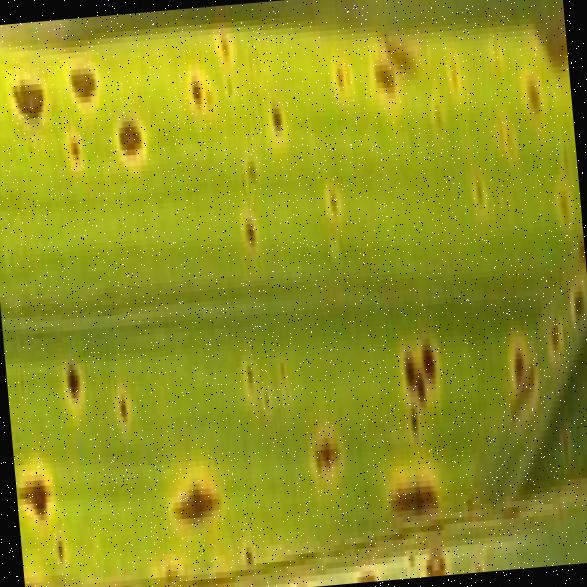Brown_Spot: (380, 298, 450, 443), (10, 422, 68, 572), (503, 296, 544, 478), (165, 452, 232, 554), (1, 21, 50, 137), (516, 44, 556, 176), (322, 22, 358, 154), (384, 451, 443, 529), (106, 92, 150, 190), (300, 401, 356, 474), (236, 314, 268, 434), (541, 269, 581, 362), (108, 342, 134, 474), (359, 0, 390, 100), (208, 4, 239, 102), (315, 160, 349, 246), (59, 318, 87, 415), (468, 152, 492, 260), (234, 178, 262, 270), (422, 71, 449, 151), (67, 56, 101, 109), (265, 74, 287, 154), (186, 53, 206, 126)
